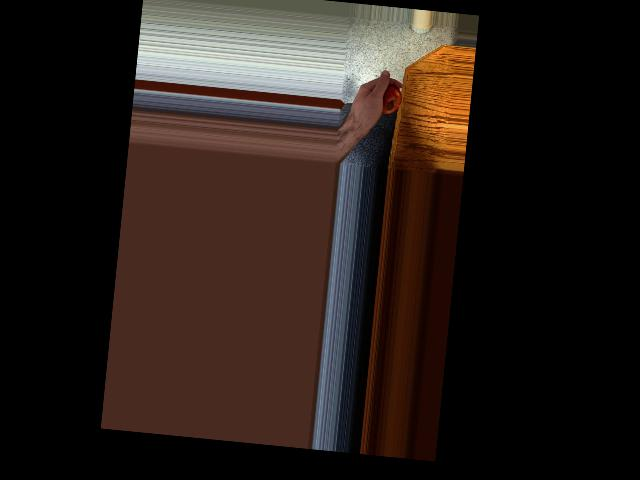apple: (370, 81, 404, 117)
